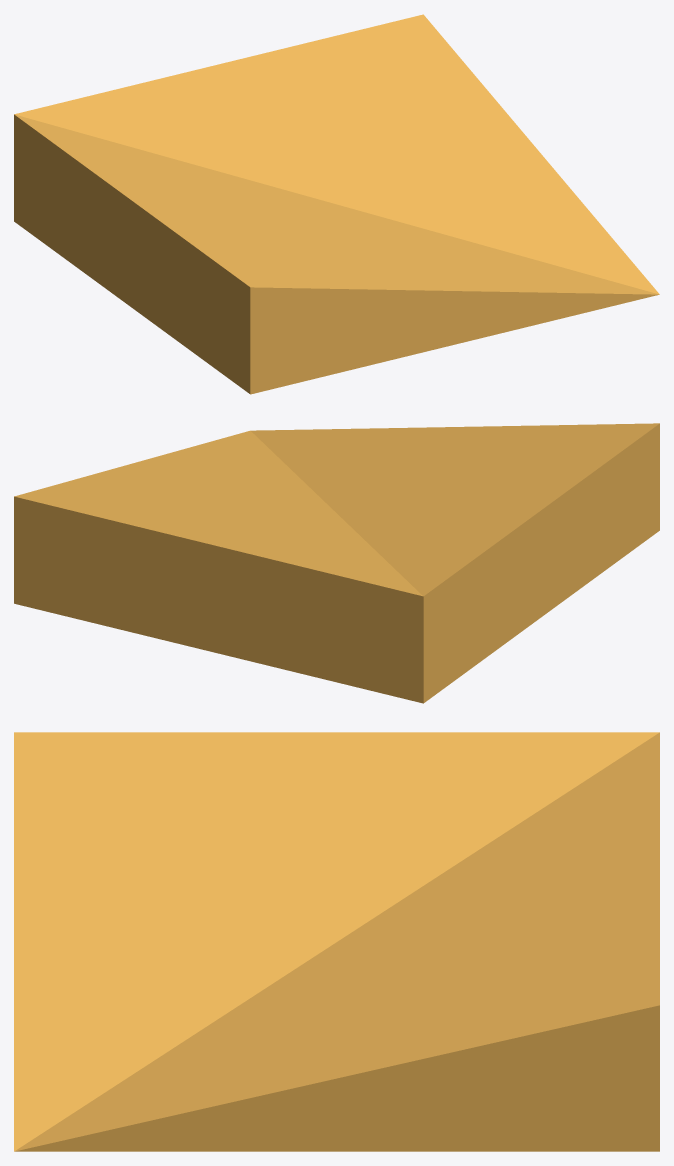
Rendered from Roof-Shallow-4x4x1-Corner-Concave.FBX.
3 renders of one model, top to bottom at view 1: azimuth 30°, elevation 25°; view 2: azimuth 150°, elevation 25°; view 3: azimuth 270°, elevation 25°, orthographic. The views are drawn at different scales.
Parts seen in each view (by area): view 1: Roof-Shallow-4x4x1-Corner-Concave; view 2: Roof-Shallow-4x4x1-Corner-Concave; view 3: Roof-Shallow-4x4x1-Corner-Concave.
Boxes of the visible parts, x1,y1,x2,y2 form: Roof-Shallow-4x4x1-Corner-Concave: (14, 14, 659, 394); Roof-Shallow-4x4x1-Corner-Concave: (14, 423, 659, 703); Roof-Shallow-4x4x1-Corner-Concave: (14, 732, 659, 1151).
Bounding box in the file's own units: 40 × 40 × 10.
